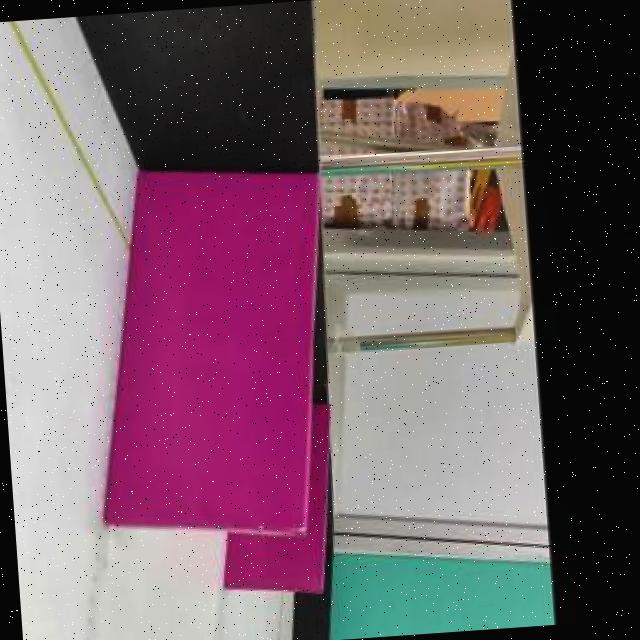xparking: (102, 172, 317, 530), (224, 534, 324, 592)
